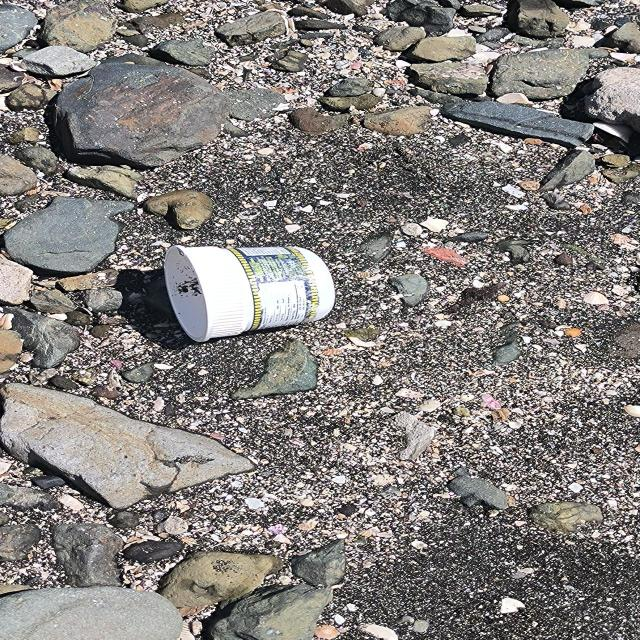plastic_waste: (164, 245, 338, 344)
